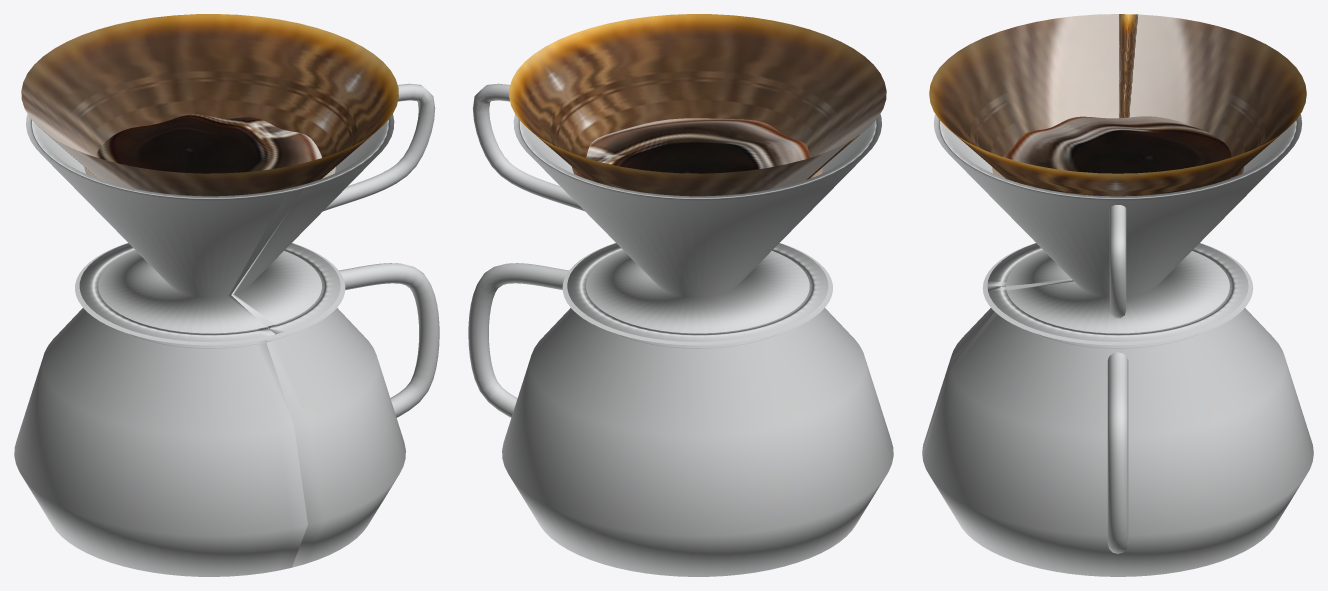
The model's file is pourover-geisha.glb.
3 renders of one model, left to right at view 1: azimuth 30°, elevation 25°; view 2: azimuth 150°, elevation 25°; view 3: azimuth 270°, elevation 25°, orthographic.
Parts seen in each view (by area): view 1: GlassSharingCarafe, UnbleachedPaperFilter, GlassV60Dripper, CoffeeBloomBed, CarafeGlassHandle, V60GlassHandle; view 2: GlassSharingCarafe, UnbleachedPaperFilter, GlassV60Dripper, CoffeeBloomBed, CarafeGlassHandle, V60GlassHandle; view 3: GlassSharingCarafe, UnbleachedPaperFilter, GlassV60Dripper, CoffeeBloomBed, CarafeGlassHandle, V60GlassHandle.
Part boxes in pixels (<box>): GlassSharingCarafe: <box>14,243,405,576</box>; UnbleachedPaperFilter: <box>21,14,398,196</box>; GlassV60Dripper: <box>26,114,394,345</box>; CoffeeBloomBed: <box>84,114,335,178</box>; CarafeGlassHandle: <box>339,263,439,417</box>; V60GlassHandle: <box>323,83,435,211</box>; GlassSharingCarafe: <box>502,243,893,576</box>; UnbleachedPaperFilter: <box>509,14,886,196</box>; GlassV60Dripper: <box>513,114,881,345</box>; CoffeeBloomBed: <box>572,118,823,178</box>; CarafeGlassHandle: <box>468,263,568,417</box>; V60GlassHandle: <box>472,83,584,211</box>; GlassSharingCarafe: <box>922,243,1313,576</box>; UnbleachedPaperFilter: <box>929,14,1306,196</box>; GlassV60Dripper: <box>933,114,1302,345</box>; CoffeeBloomBed: <box>992,116,1243,178</box>; CarafeGlassHandle: <box>1107,352,1128,553</box>; V60GlassHandle: <box>1109,205,1126,318</box>.
Bounding box in the file's own units: 1.97 × 1.96 × 1.68.
Materials: 4 (3 with a texture image).
